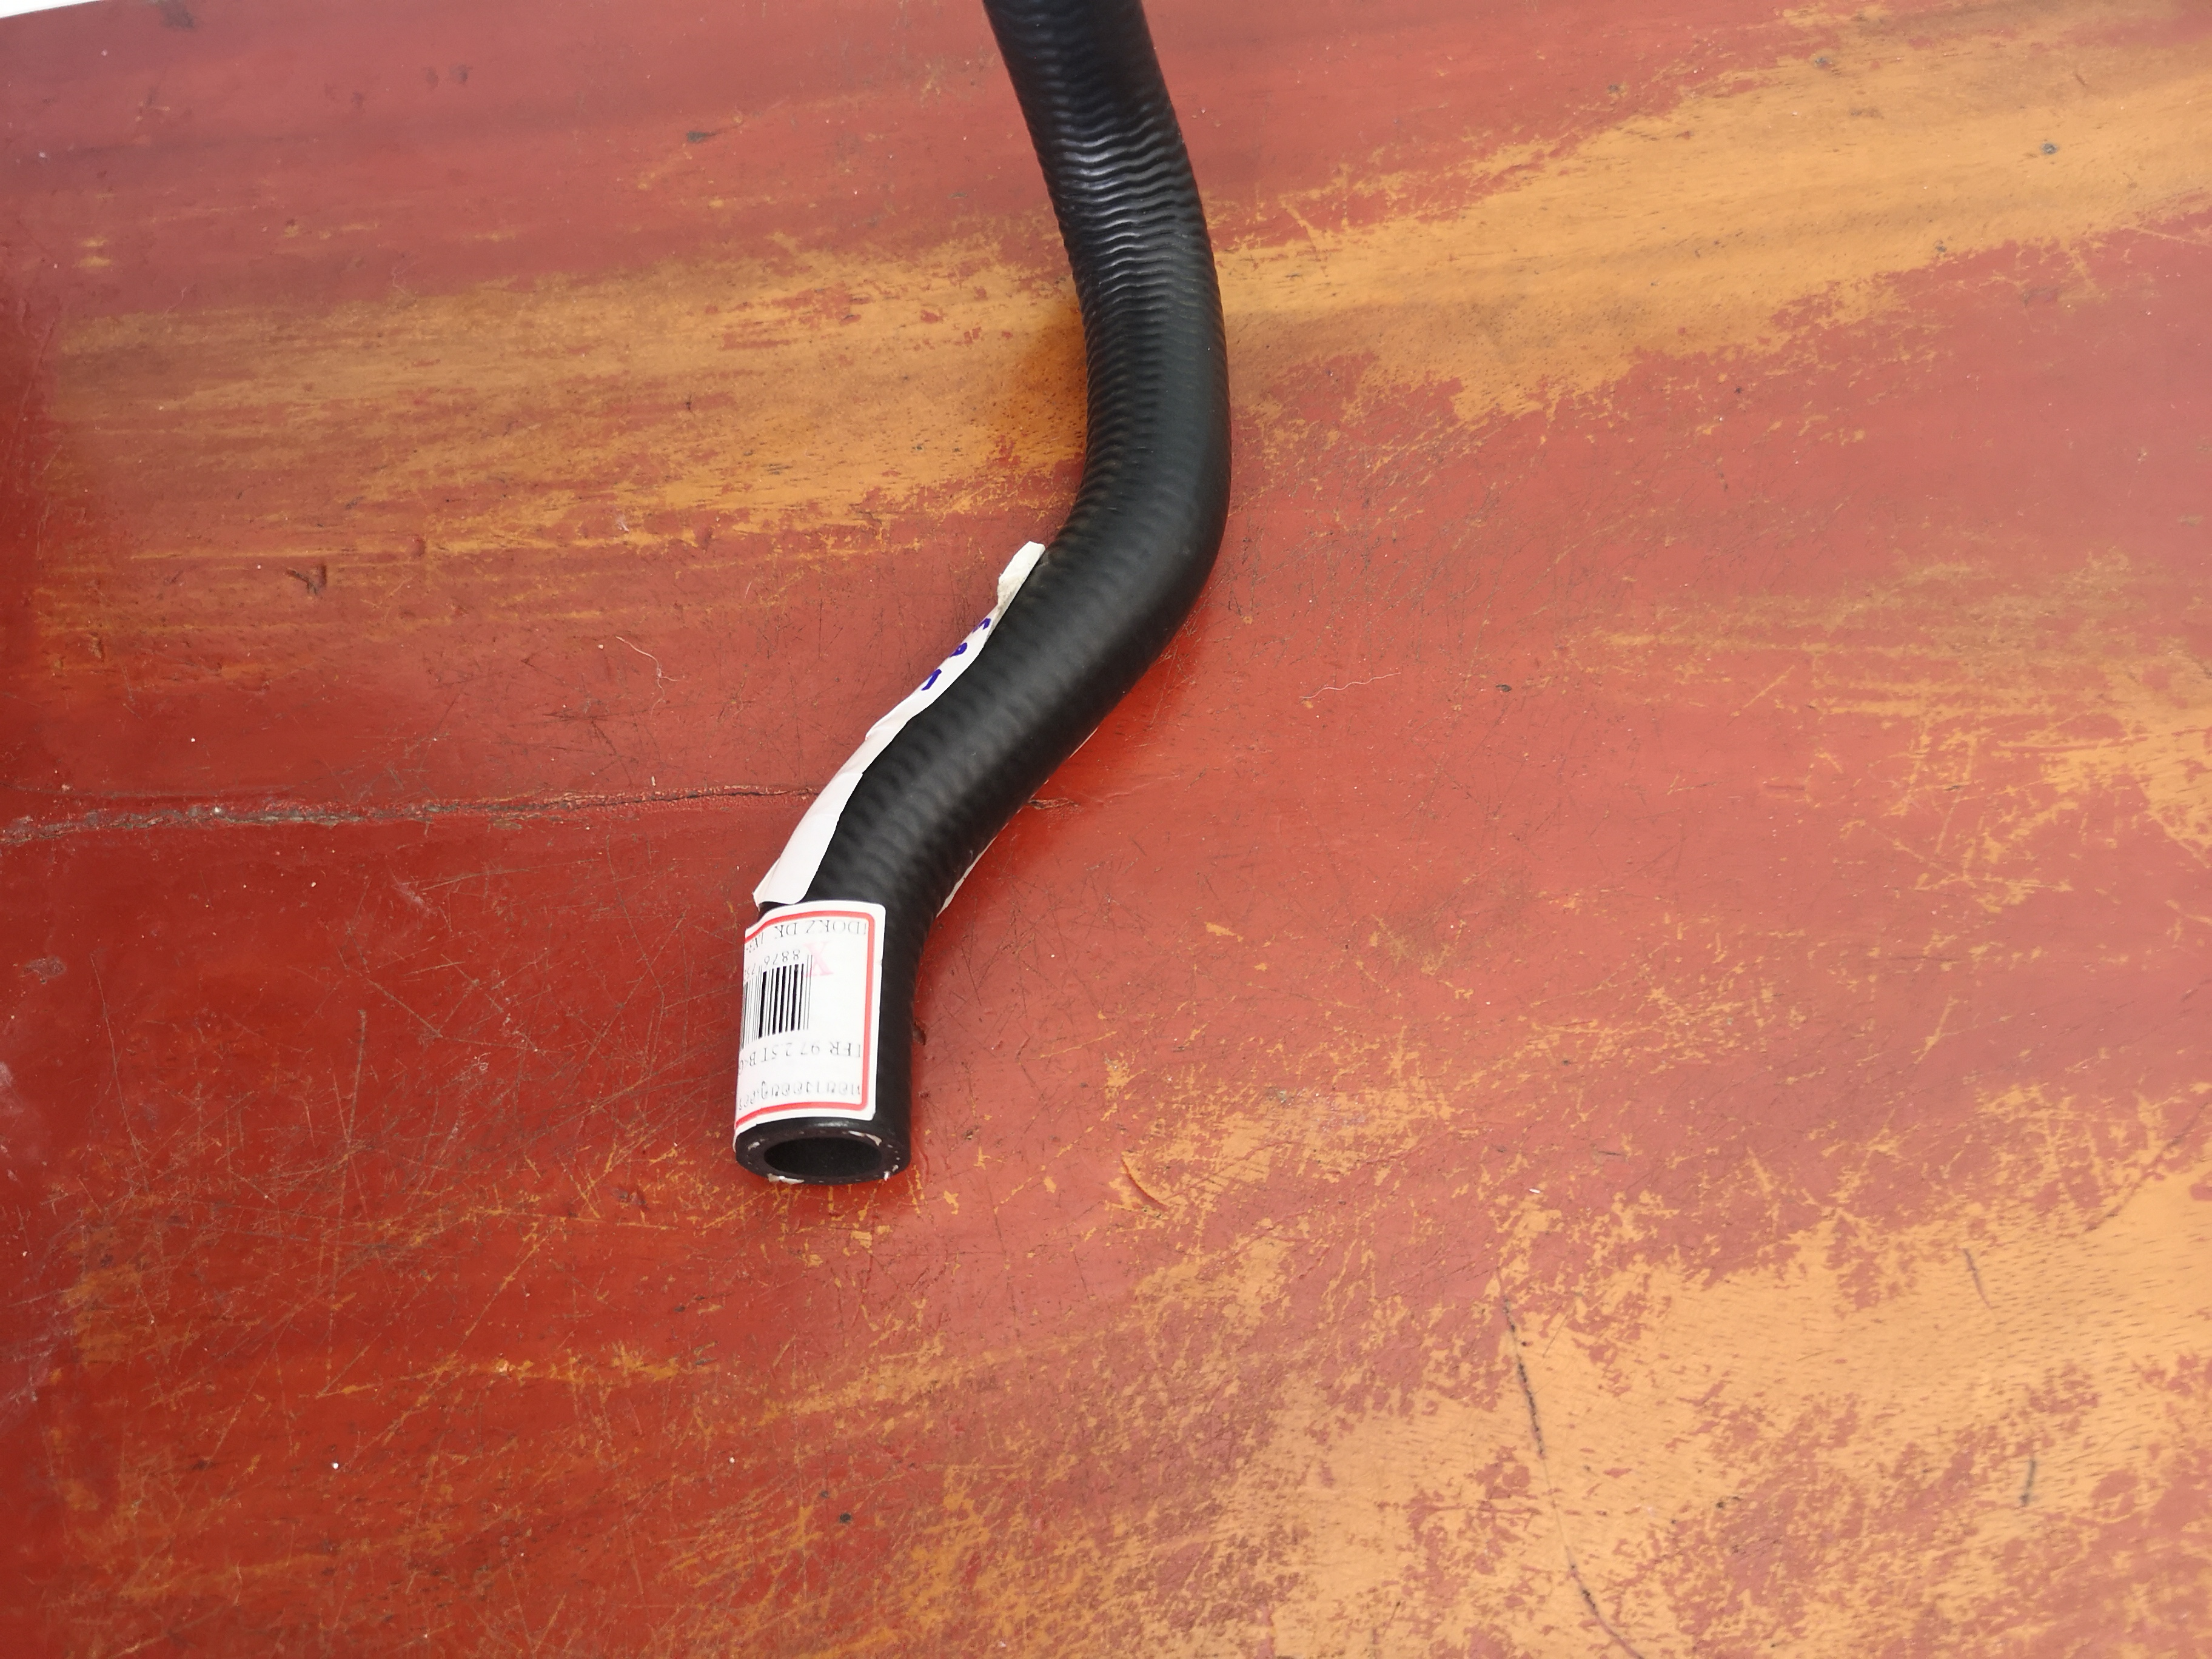ท่อยางน้ำมันเลี้ยงเทอร์โบ: (481, 2, 1663, 1185)
